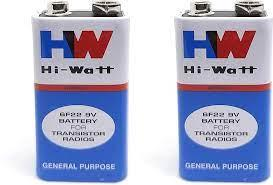9V Battery: (31, 0, 131, 183)
